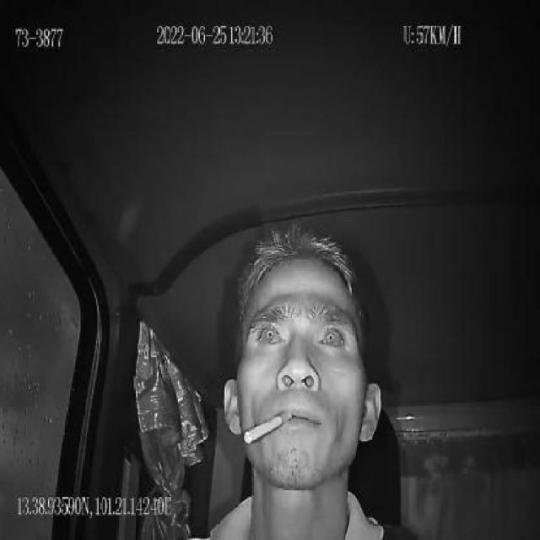smoking: (243, 413, 293, 443)
